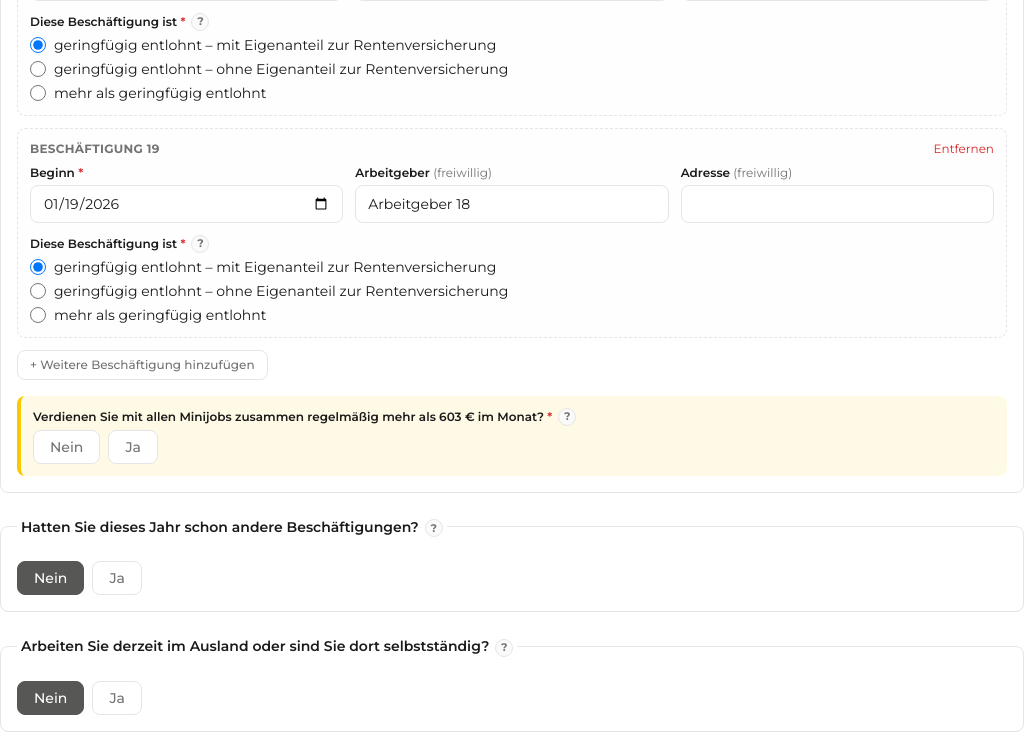
Obergrenze der Zeilen › laesst darunter weiter hinzufuegen
(page scrolled)
Expected: the text "mehr können wir" is not shown
Click the button "+ Weitere Beschäftigung hinzufügen". click: (142, 364)
box: [17, 350, 268, 380]
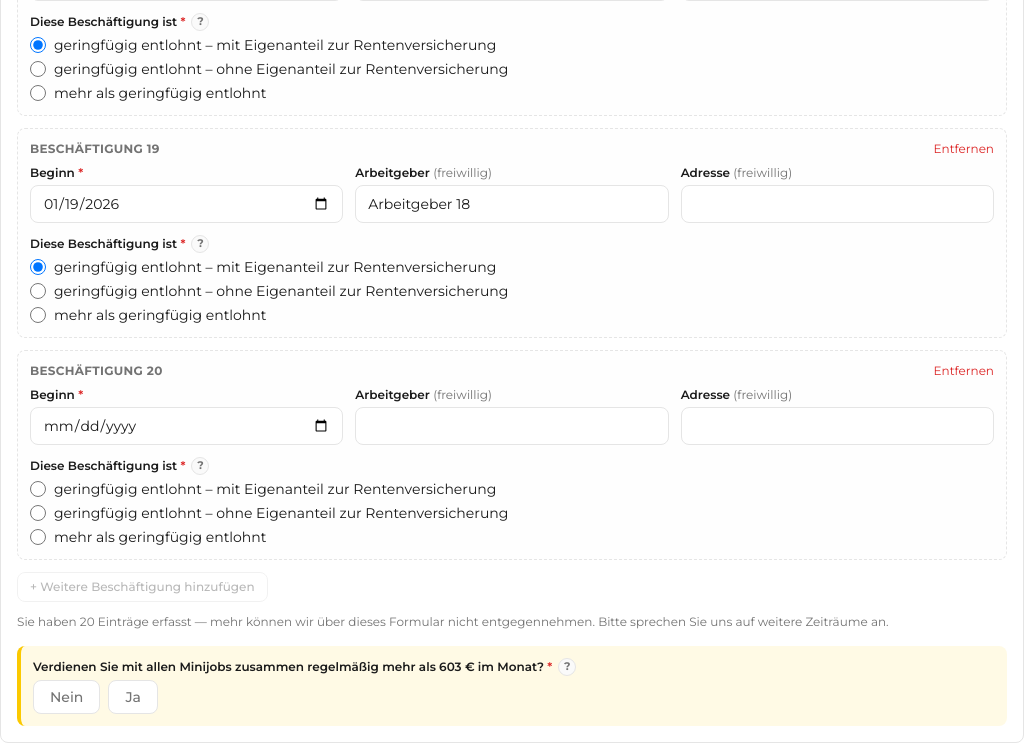
Expected: the button "+ Weitere Beschäftigung hinzufügen" is disabled, [17, 572, 268, 602]
